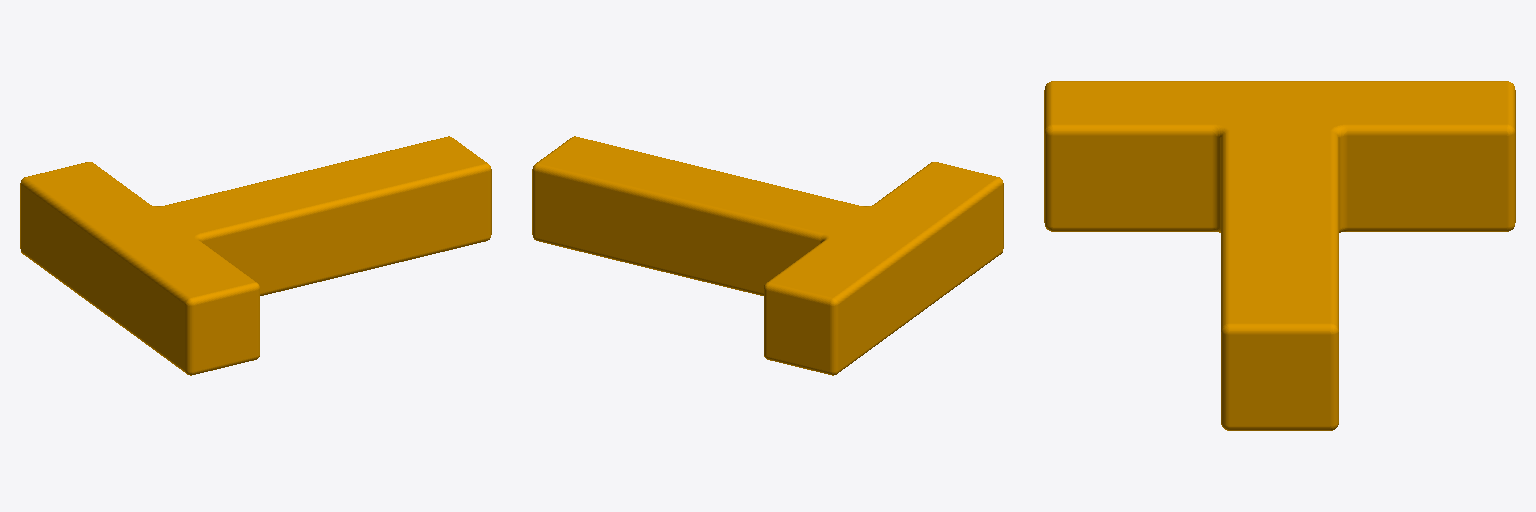
URDF robot description (t_goal_shape):
<?xml version="1.0"?>
<!-- The push T has volume 2*(0.16*0.04*0.04) = 512,000 mm^3 -->
<!-- The push T has mass 1 kg -->
<!-- Therefore, it has a density of 195.3125 kg/m^3 -->
<robot name="t_goal_shape">
  <link name="t">
    <visual>
      <geometry>
        <mesh filename="push_t_green_transparent.obj"/>
      </geometry>
    </visual>
    <inertial>
        <origin rpy="0 0 0" xyz="-0.05 0 0"/>
        <mass value="1.0"/>
        <inertia ixx="0.001266586" ixy="0" ixz="0" iyy="0.003766426" iyz="0" izz="0.004766362"/>
    </inertial>
    <collision>
      <geometry>
        <mesh filename="push_t_green_transparent.obj"/>
      </geometry>
    </collision>
  </link>
</robot>

--- What the picture shows (computed from the rendered views, not written in the file) ---
The picture shows the robot from 3 angles, left to right: view 1: azimuth 30°, elevation 25°; view 2: azimuth 150°, elevation 25°; view 3: azimuth 270°, elevation 25°; orthographic projection.
Robot: t_goal_shape — 1 links, 0 joints (none); root link t; default pose: every joint at zero.
Links seen in each view (by area): view 1: t; view 2: t; view 3: t.
Boxes of the visible links, left/top/right/bottom form: t: left=20, top=136, right=491, bottom=375; t: left=532, top=136, right=1003, bottom=375; t: left=1044, top=81, right=1515, bottom=430.
Bounding box of the posed robot: 0.2 × 0.16 × 0.04 m (x, y, z).
1 mesh visuals loaded from 1 distinct referenced files (1 OBJ).